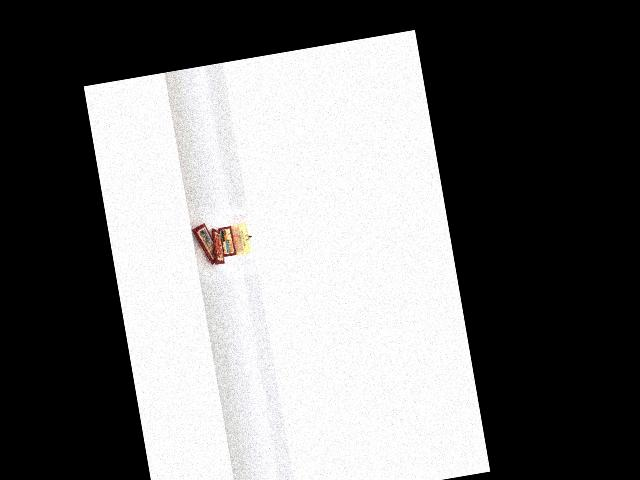chocolate: (186, 213, 219, 269)
